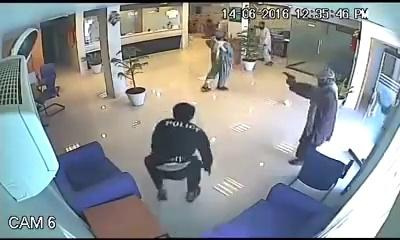weapon: (279, 69, 296, 83)
